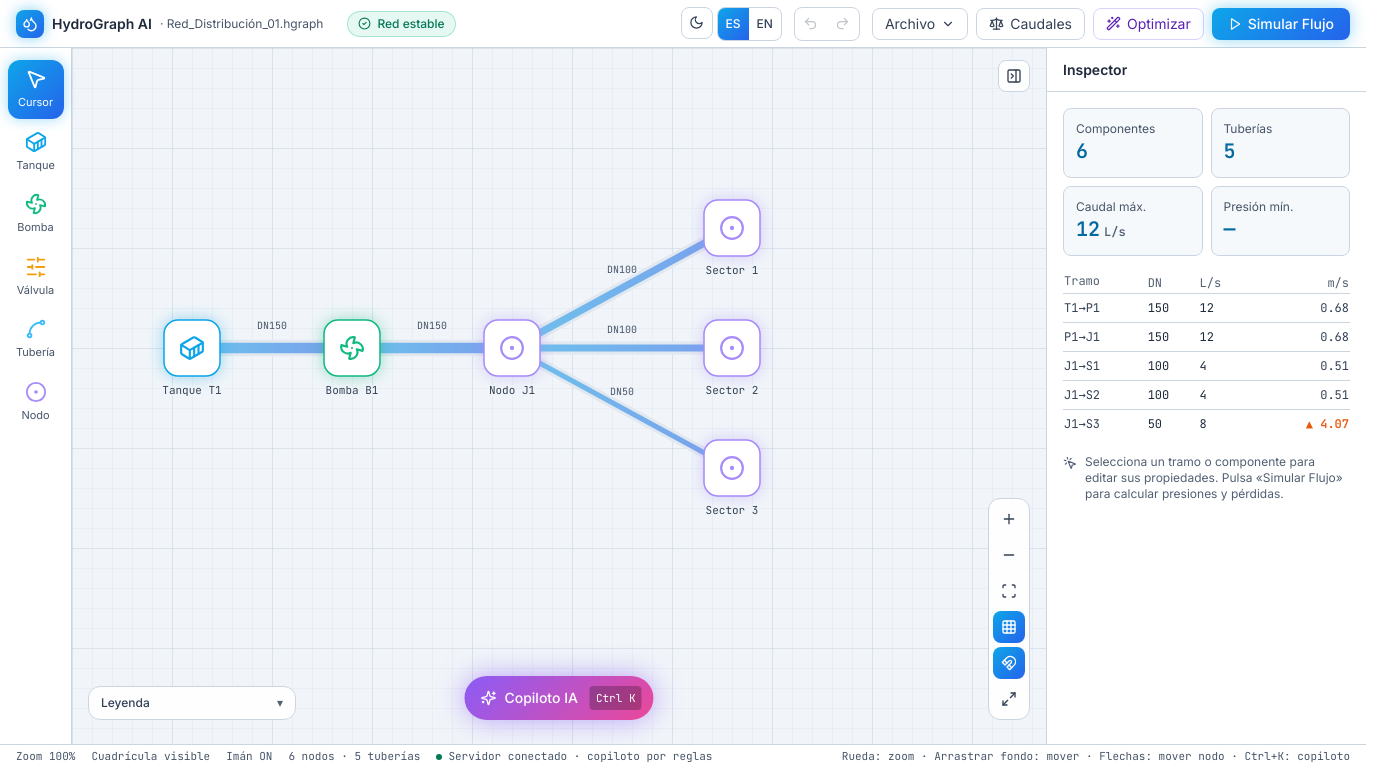
Test: App › el inspector se puede ocultar y mostrar
Expected: the element "Inspector" is shown, [1046,48,1366,744]
What coordinates should you click on to do the following:
click the button named "Ocultar inspector"
I would click on:
 (1014, 76)
Its box is [998,60,1030,92].
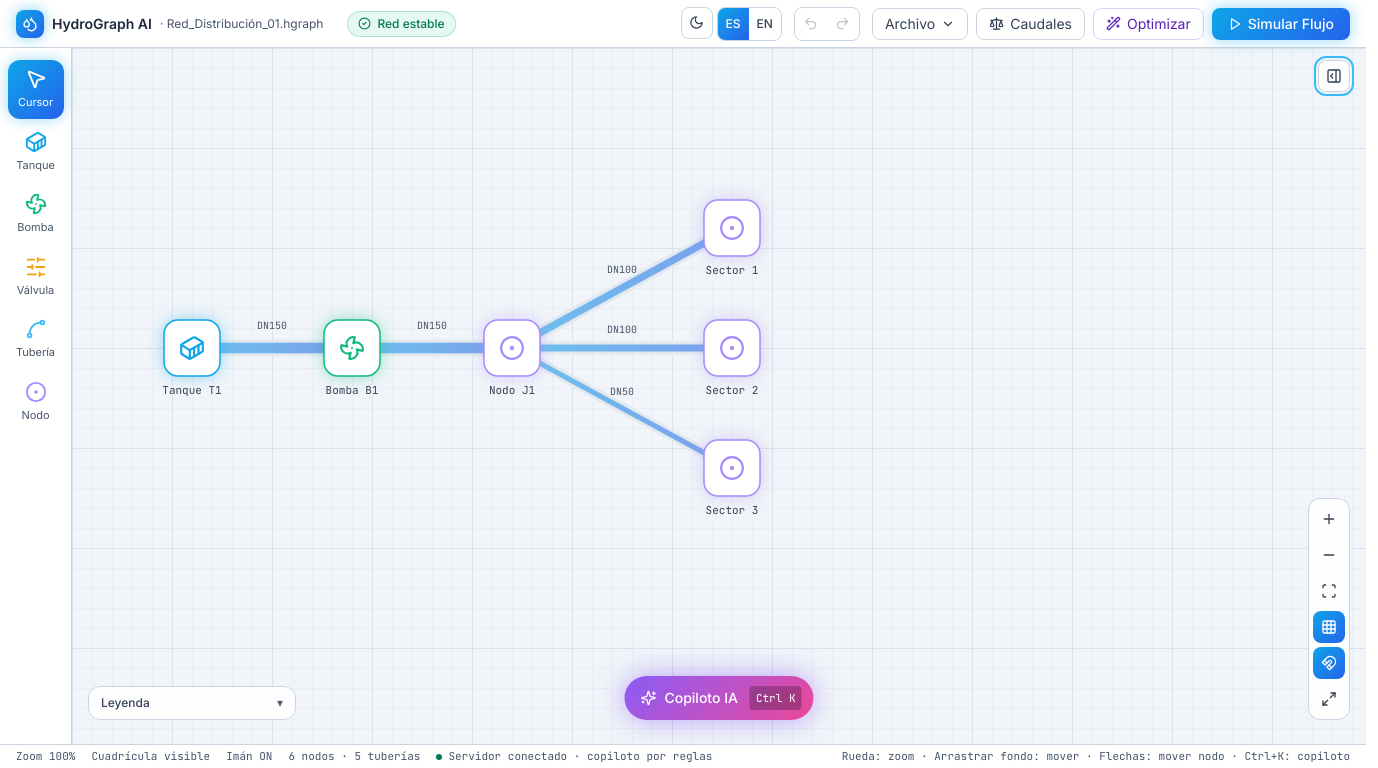
Result: the heading "Inspector" is gone
What coordinates should you click on to do the following:
click the button named "Mostrar inspector"
I would click on:
 (1334, 76)
Its box is [1318,60,1350,92].
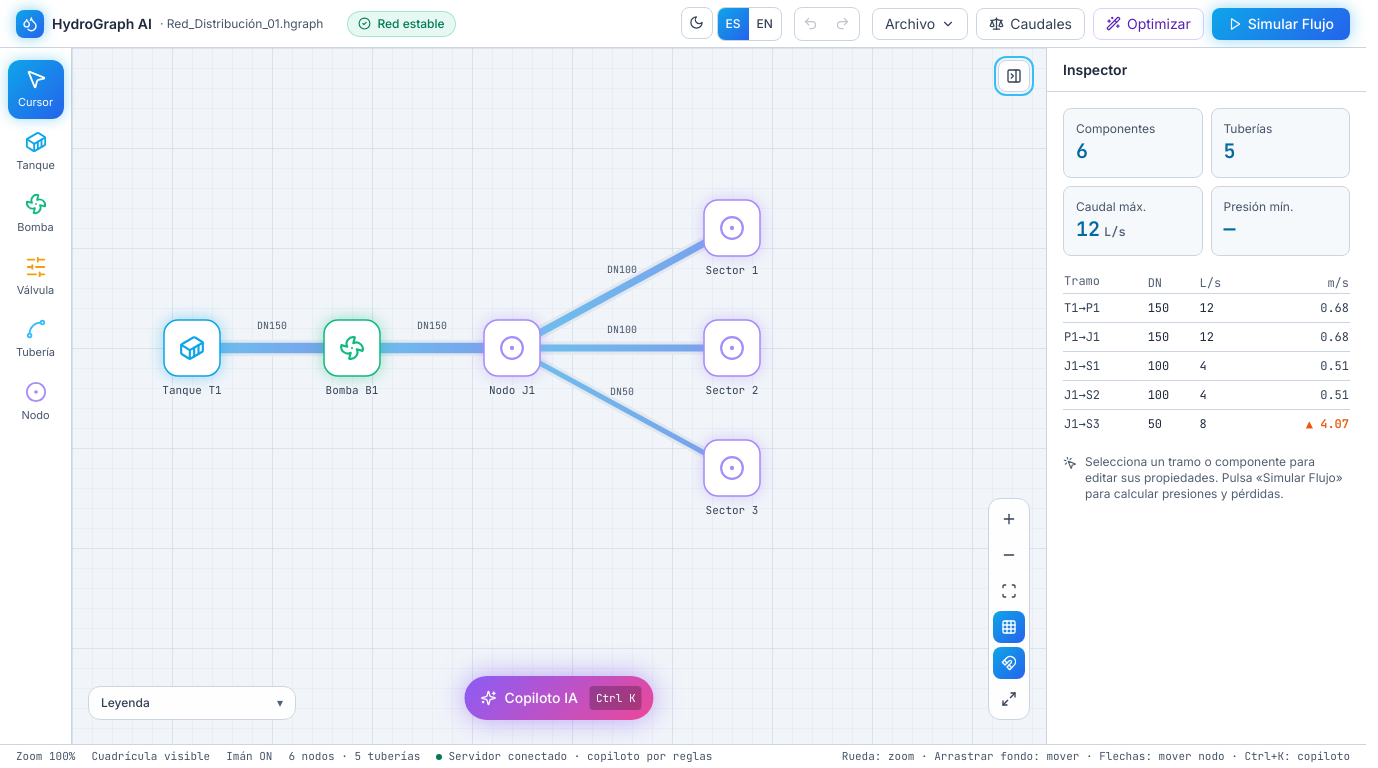
Result: the element "Inspector" is shown at [1046,48,1366,744]
